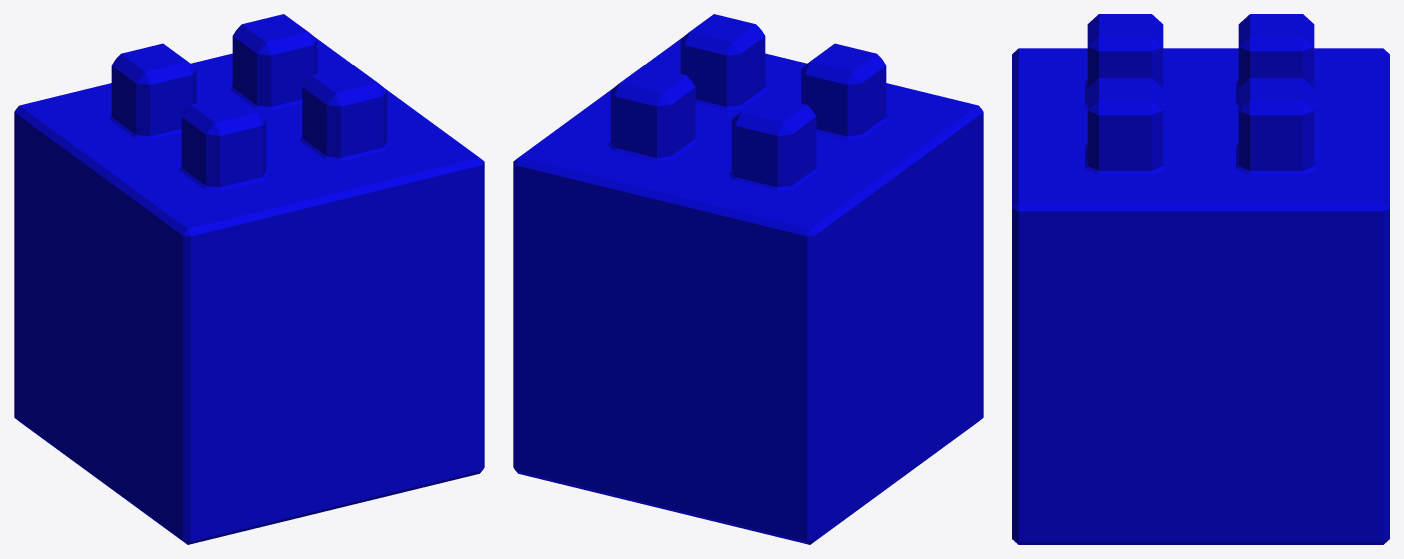
Rendered from brock_blue.fbx.
The picture shows the model from 3 angles, left to right: view 1: azimuth 30°, elevation 25°; view 2: azimuth 150°, elevation 25°; view 3: azimuth 270°, elevation 25°; orthographic projection. The views are drawn at different scales.
Visible parts, largest first — view 1: pCube1; view 2: pCube1; view 3: pCube1.
Boxes of the visible parts, bbox=[...] form: pCube1: bbox=[14, 14, 484, 544]; pCube1: bbox=[513, 14, 983, 544]; pCube1: bbox=[1012, 14, 1389, 544].
Size of the model in its own units: 100 by 120 by 100.
